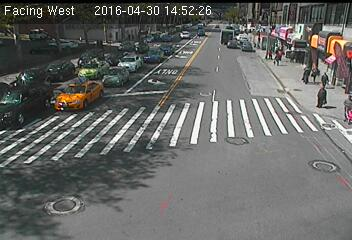neg: (102, 70, 122, 97), (256, 116, 272, 138), (233, 41, 247, 59), (66, 120, 79, 137), (74, 85, 87, 101), (157, 41, 167, 55), (260, 79, 270, 93), (205, 88, 213, 98)
pos: (313, 85, 331, 110), (340, 92, 351, 120), (301, 63, 315, 82), (310, 64, 323, 82), (320, 68, 332, 85), (273, 53, 284, 67)
